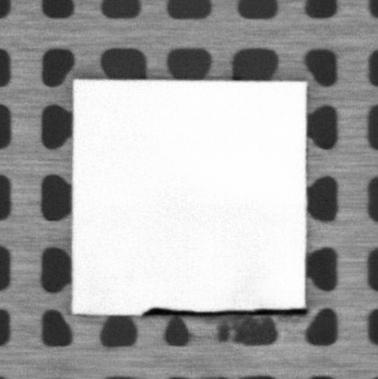DIE_BROKEN: (140, 306, 310, 316)
